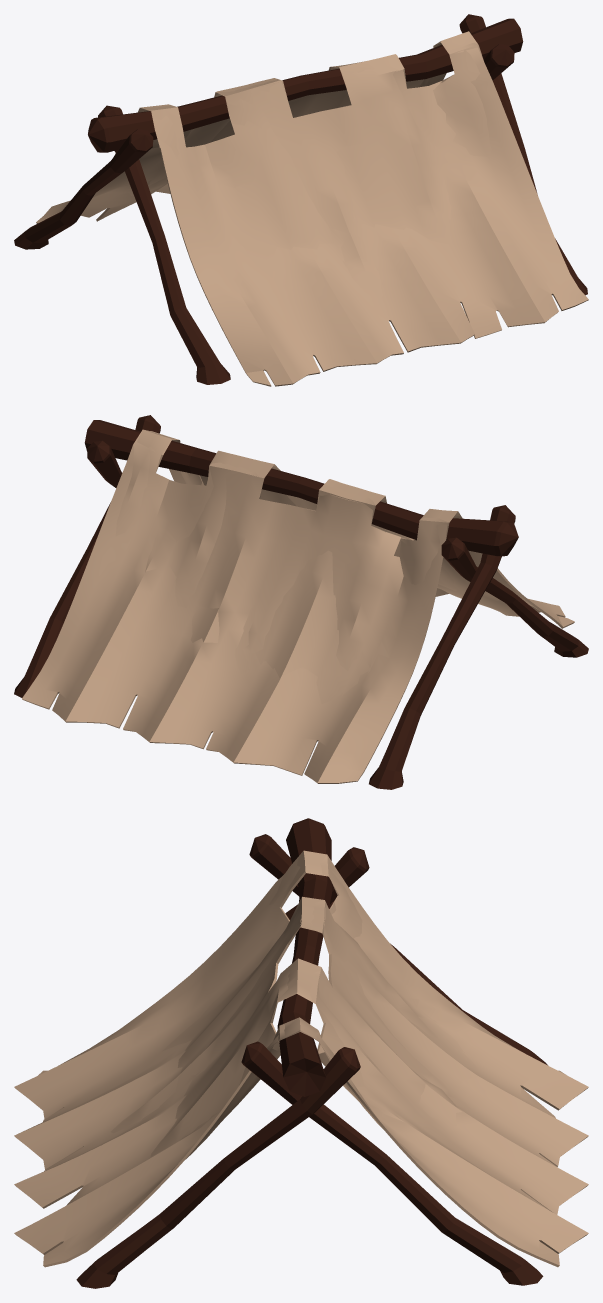
The model's file is Tienda buena.fbx.
The picture shows the model from 3 angles, top to bottom: view 1: azimuth 30°, elevation 25°; view 2: azimuth 150°, elevation 25°; view 3: azimuth 270°, elevation 25°; orthographic projection. The views are drawn at different scales.
Parts seen in each view (by area): view 1: Cylinder.005; view 2: Cylinder.005; view 3: Cylinder.005.
Boxes of the visible parts, left/top/right/bottom form: Cylinder.005: left=14, top=14, right=588, bottom=386; Cylinder.005: left=14, top=415, right=588, bottom=789; Cylinder.005: left=14, top=818, right=588, bottom=1288.
Bounding box in the file's own units: 656 × 308 × 646.
